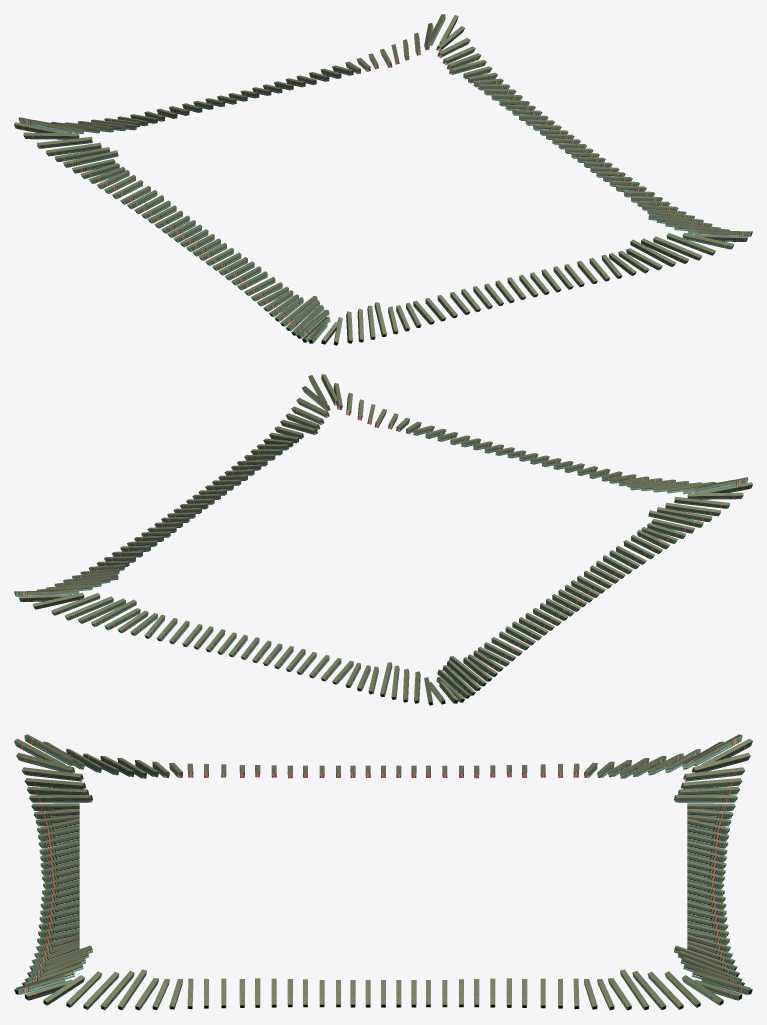
File: SM_Buyeon02A.fbx
The picture shows the model from 3 angles, top to bottom: view 1: azimuth 30°, elevation 25°; view 2: azimuth 150°, elevation 25°; view 3: azimuth 270°, elevation 25°; orthographic projection. The views are drawn at different scales.
Visible parts, largest first — view 1: SM_Buyeon02A; view 2: SM_Buyeon02A; view 3: SM_Buyeon02A.
Boxes of the visible parts, left/top/right/bottom form: SM_Buyeon02A: left=14, top=14, right=752, bottom=345; SM_Buyeon02A: left=14, top=374, right=752, bottom=705; SM_Buyeon02A: left=14, top=734, right=752, bottom=1010.
Bounding box in the file's own units: 1671 × 1992 × 74.7.
1 material, 1 textured.
